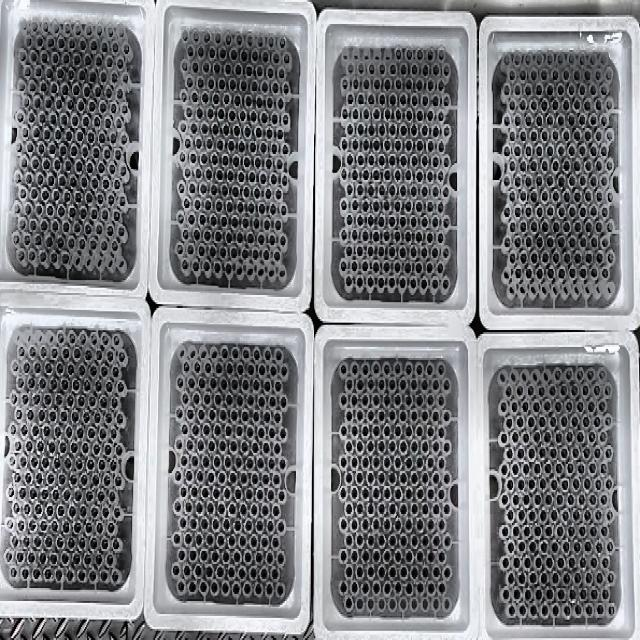vial: (432, 154, 440, 168), (19, 18, 27, 31), (117, 25, 125, 38), (191, 92, 199, 105), (108, 490, 116, 503), (107, 24, 114, 38), (123, 42, 130, 56), (438, 140, 445, 154), (36, 173, 44, 185), (67, 238, 75, 250), (13, 202, 21, 214), (260, 113, 268, 125), (272, 52, 280, 64), (256, 66, 264, 78), (278, 67, 286, 79), (184, 138, 192, 150), (200, 152, 208, 164), (183, 166, 191, 178), (194, 167, 202, 179), (238, 171, 246, 183), (210, 184, 218, 196), (253, 187, 261, 199), (176, 212, 184, 224), (258, 234, 266, 246), (279, 235, 287, 247), (192, 260, 200, 272), (246, 264, 254, 276), (268, 266, 276, 278), (346, 123, 354, 135), (383, 200, 391, 212), (420, 278, 428, 290), (410, 246, 418, 258), (340, 199, 348, 211), (579, 53, 587, 65), (503, 115, 511, 127), (536, 206, 544, 218), (24, 331, 32, 343), (62, 347, 70, 359), (280, 397, 288, 409), (272, 506, 280, 518), (206, 534, 214, 546), (272, 537, 280, 549), (378, 472, 386, 484), (400, 411, 408, 423), (599, 369, 607, 381), (572, 510, 580, 522), (574, 604, 582, 616), (39, 111, 46, 124), (63, 53, 70, 66), (27, 141, 34, 154), (427, 48, 434, 61), (443, 155, 450, 168), (362, 199, 369, 212), (112, 570, 119, 583), (276, 349, 283, 362), (280, 428, 287, 441), (186, 439, 193, 452), (587, 369, 594, 382), (66, 99, 74, 110), (16, 112, 24, 123), (218, 78, 226, 89), (244, 127, 252, 138), (272, 83, 280, 94), (282, 114, 290, 125), (190, 123, 198, 134), (232, 156, 240, 167), (270, 173, 278, 184), (280, 205, 288, 216), (416, 49, 424, 60), (438, 49, 446, 60), (432, 126, 440, 137), (421, 95, 429, 106), (362, 139, 370, 150), (442, 279, 450, 290), (394, 169, 402, 180), (346, 214, 354, 225), (345, 245, 353, 256), (366, 277, 374, 288), (372, 262, 380, 273), (356, 245, 364, 256), (502, 54, 510, 65), (556, 54, 564, 65), (562, 284, 570, 295), (28, 377, 36, 388), (16, 378, 24, 389), (26, 409, 34, 420), (76, 458, 84, 469), (28, 520, 36, 531), (68, 506, 76, 517), (102, 507, 110, 518), (264, 349, 272, 360), (280, 366, 288, 377), (218, 473, 226, 484), (188, 581, 196, 592), (212, 519, 220, 530), (250, 537, 258, 548), (528, 448, 536, 459), (572, 447, 580, 458), (594, 448, 602, 459), (556, 525, 564, 536), (502, 557, 510, 568), (508, 606, 516, 617), (43, 20, 50, 32), (52, 20, 59, 32), (64, 20, 71, 32), (96, 24, 103, 36), (101, 42, 108, 54), (51, 82, 58, 94), (57, 68, 64, 80), (15, 142, 22, 154), (15, 172, 22, 184), (73, 254, 80, 266), (80, 208, 87, 220), (86, 191, 93, 203), (119, 196, 126, 208), (182, 27, 189, 39), (203, 62, 210, 74), (209, 47, 216, 59), (213, 63, 220, 75), (234, 125, 241, 137), (225, 64, 232, 76), (230, 48, 237, 60), (235, 63, 242, 75), (256, 96, 263, 108), (251, 50, 258, 62), (283, 82, 290, 94), (181, 61, 188, 73), (196, 107, 203, 119), (180, 91, 187, 103), (185, 106, 192, 118), (179, 121, 186, 133), (254, 156, 261, 168), (178, 182, 185, 194), (200, 183, 207, 195), (232, 186, 239, 198), (194, 198, 201, 210), (237, 202, 244, 214), (182, 228, 189, 240), (263, 248, 270, 260), (214, 262, 221, 274), (225, 263, 232, 275), (395, 49, 402, 61), (384, 139, 391, 151), (379, 93, 386, 105), (379, 63, 386, 75), (406, 109, 413, 121), (395, 78, 402, 90), (444, 125, 451, 137), (422, 64, 429, 76), (443, 64, 450, 76), (368, 154, 375, 166), (342, 108, 349, 120), (340, 168, 347, 180), (352, 169, 359, 181), (378, 215, 385, 227), (373, 201, 380, 213), (368, 185, 375, 197), (443, 246, 450, 258), (432, 216, 439, 228), (416, 202, 423, 214), (340, 260, 347, 272), (350, 260, 357, 272), (352, 199, 359, 211), (574, 68, 581, 80), (504, 84, 511, 96), (530, 130, 537, 142), (541, 130, 548, 142), (590, 84, 597, 96), (595, 99, 602, 111), (606, 98, 613, 110), (605, 68, 612, 80), (509, 160, 516, 172), (525, 206, 532, 218), (585, 160, 592, 172), (602, 268, 609, 280), (14, 331, 21, 343), (47, 331, 54, 343), (33, 394, 40, 406), (36, 441, 43, 453), (42, 458, 49, 470), (105, 412, 112, 424), (19, 487, 26, 499), (40, 520, 47, 532), (63, 522, 70, 534), (108, 523, 115, 535), (33, 568, 40, 580), (67, 570, 74, 582), (100, 570, 107, 582), (242, 347, 249, 359), (226, 394, 233, 406), (258, 427, 265, 439), (247, 395, 254, 407), (196, 502, 203, 514), (206, 502, 213, 514), (202, 456, 209, 468), (201, 518, 208, 530), (422, 474, 429, 486), (401, 566, 408, 578), (411, 567, 418, 579), (433, 567, 440, 579), (346, 598, 353, 610), (594, 386, 601, 398), (561, 479, 568, 491), (601, 494, 608, 506), (535, 557, 542, 569), (601, 526, 608, 538), (524, 588, 531, 600), (586, 605, 593, 617), (91, 209, 99, 219), (236, 232, 244, 242), (181, 260, 189, 270), (399, 155, 407, 165), (378, 184, 386, 194), (514, 54, 522, 64), (546, 54, 554, 64), (606, 131, 614, 141), (536, 176, 544, 186), (90, 334, 98, 344), (72, 381, 80, 391), (70, 442, 78, 452), (22, 538, 30, 548), (56, 537, 64, 547), (112, 540, 120, 550), (258, 365, 266, 375), (176, 378, 184, 388), (236, 396, 244, 406), (212, 488, 220, 498), (256, 521, 264, 531), (266, 553, 274, 563), (432, 504, 440, 514), (573, 479, 581, 489), (591, 590, 599, 600), (518, 574, 526, 584), (32, 18, 38, 31), (113, 41, 119, 54), (109, 163, 115, 176), (85, 223, 91, 236), (213, 93, 219, 106), (230, 78, 236, 91), (246, 95, 252, 108), (250, 110, 256, 123), (256, 127, 262, 140), (260, 171, 266, 184), (189, 182, 195, 195), (389, 245, 395, 258), (74, 22, 81, 33), (25, 36, 32, 47), (36, 37, 43, 48), (47, 38, 54, 49), (58, 38, 65, 49), (79, 39, 86, 50), (90, 40, 97, 51), (19, 50, 26, 61), (35, 67, 42, 78), (52, 52, 59, 63), (106, 57, 113, 68), (33, 127, 40, 138), (65, 131, 72, 142), (121, 134, 128, 145), (87, 162, 94, 173), (120, 165, 127, 176), (42, 190, 49, 201), (47, 205, 54, 216), (51, 220, 58, 231), (19, 220, 26, 231), (17, 251, 24, 262), (12, 235, 19, 246), (119, 258, 126, 269), (97, 194, 104, 205), (118, 226, 125, 237), (203, 31, 210, 42), (223, 93, 230, 104), (234, 95, 241, 106), (220, 48, 227, 59), (241, 50, 248, 61), (267, 67, 274, 78), (277, 129, 284, 140), (186, 77, 193, 88), (205, 138, 212, 149), (195, 138, 202, 149), (211, 154, 218, 165), (243, 156, 250, 167), (216, 169, 223, 180), (227, 170, 234, 181), (249, 172, 256, 183), (243, 186, 250, 197), (188, 214, 195, 225), (210, 215, 217, 226), (253, 218, 260, 229), (204, 231, 211, 242), (215, 231, 222, 242), (225, 232, 232, 243), (269, 235, 276, 246), (198, 245, 205, 256), (219, 246, 226, 257), (203, 260, 210, 271), (406, 48, 413, 59), (363, 79, 370, 90), (368, 94, 375, 105), (368, 63, 375, 74), (437, 81, 444, 92), (417, 80, 424, 91), (347, 94, 354, 105), (367, 215, 374, 226), (363, 169, 370, 180), (399, 246, 406, 257), (432, 278, 439, 289), (416, 263, 423, 274), (443, 217, 450, 228), (405, 170, 412, 181), (427, 171, 434, 182), (438, 171, 445, 182), (394, 201, 401, 212), (410, 186, 417, 197), (427, 202, 434, 213), (437, 201, 444, 212), (433, 186, 440, 197), (346, 184, 353, 195), (341, 229, 348, 240), (362, 230, 369, 241), (525, 53, 532, 64), (537, 115, 544, 126), (552, 130, 559, 141), (541, 101, 548, 112), (558, 85, 565, 96), (579, 85, 586, 96), (585, 69, 592, 80), (509, 131, 516, 142), (552, 161, 559, 172), (558, 269, 565, 280), (44, 394, 51, 405), (90, 366, 97, 377), (85, 350, 92, 361), (41, 346, 48, 357), (43, 427, 50, 438), (60, 411, 67, 422), (81, 474, 88, 485), (98, 459, 105, 470), (115, 474, 122, 485), (110, 460, 117, 471), (104, 445, 111, 456), (94, 412, 101, 423), (116, 445, 123, 456), (32, 457, 39, 468), (25, 473, 32, 484), (24, 504, 31, 515), (35, 504, 42, 515), (29, 489, 36, 500), (42, 488, 49, 499), (6, 519, 13, 530), (91, 507, 98, 518), (78, 570, 85, 581), (89, 571, 96, 582), (221, 347, 228, 358), (253, 348, 260, 359), (237, 364, 244, 375), (215, 363, 222, 374), (205, 362, 212, 373), (210, 378, 217, 389), (220, 379, 227, 390), (264, 381, 271, 392), (236, 426, 243, 437), (231, 411, 238, 422), (253, 411, 260, 422), (274, 413, 281, 424), (269, 397, 276, 408), (191, 456, 198, 467), (198, 440, 205, 451), (208, 472, 215, 483), (218, 503, 225, 514), (208, 440, 215, 451), (219, 441, 226, 452), (230, 441, 237, 452), (262, 505, 269, 516), (189, 550, 196, 561), (200, 582, 207, 593), (201, 550, 208, 561), (222, 583, 229, 594), (183, 565, 190, 576), (178, 581, 185, 592), (222, 552, 229, 563), (239, 568, 246, 579), (234, 520, 241, 531), (433, 380, 440, 391), (339, 394, 346, 405), (383, 458, 390, 469), (389, 410, 396, 421), (395, 425, 402, 436), (406, 458, 413, 469), (405, 395, 412, 406), (444, 411, 451, 422), (411, 441, 418, 452), (427, 489, 434, 500), (395, 490, 402, 501), (346, 473, 353, 484), (346, 441, 353, 452), (412, 504, 419, 515), (438, 551, 445, 562), (500, 432, 507, 443), (545, 494, 552, 505), (556, 462, 563, 473), (583, 479, 590, 490), (600, 463, 607, 474), (577, 431, 584, 442), (512, 526, 519, 537), (518, 541, 525, 552), (518, 510, 525, 521), (570, 589, 577, 600), (540, 510, 547, 521), (574, 573, 581, 584), (585, 573, 592, 584), (573, 542, 580, 553), (568, 527, 575, 538), (602, 558, 609, 569), (590, 526, 597, 537), (597, 604, 604, 615), (86, 23, 92, 35), (34, 96, 40, 108), (61, 113, 67, 125), (68, 69, 74, 81), (105, 118, 111, 130), (117, 58, 123, 70), (111, 102, 117, 114), (22, 126, 28, 138), (88, 132, 94, 144), (99, 132, 105, 144), (82, 146, 88, 158), (94, 147, 100, 159), (104, 148, 110, 160), (76, 160, 82, 172), (92, 178, 98, 190), (20, 188, 26, 200), (26, 203, 32, 215), (30, 220, 36, 232), (46, 236, 52, 248), (57, 237, 63, 249), (63, 222, 69, 234), (54, 189, 60, 201), (64, 190, 70, 202), (90, 238, 96, 250), (76, 192, 82, 204), (24, 234, 30, 246), (280, 37, 286, 49), (208, 108, 214, 120), (228, 140, 234, 152), (223, 124, 229, 136), (218, 108, 224, 120), (229, 110, 235, 122), (252, 80, 258, 92), (284, 52, 290, 64), (190, 152, 196, 164), (266, 157, 272, 169), (222, 184, 228, 196), (276, 188, 282, 200), (259, 202, 265, 214), (200, 214, 206, 226), (232, 216, 238, 228), (275, 218, 281, 230), (194, 229, 200, 241), (274, 249, 280, 261), (236, 264, 242, 276), (358, 94, 364, 106), (379, 154, 385, 166), (358, 62, 364, 74), (384, 78, 390, 90), (396, 108, 402, 120), (412, 154, 418, 166), (422, 154, 428, 166), (411, 124, 417, 136), (391, 64, 397, 76), (438, 110, 444, 122), (412, 64, 418, 76), (358, 184, 364, 196), (400, 278, 406, 290), (384, 230, 390, 242), (417, 170, 423, 182), (362, 260, 368, 272), (541, 69, 547, 81), (590, 114, 596, 126), (558, 177, 564, 189), (607, 190, 613, 202), (504, 206, 510, 218), (570, 268, 576, 280), (608, 222, 614, 234), (607, 284, 613, 296), (69, 332, 75, 344), (80, 332, 86, 344), (62, 379, 68, 391), (11, 394, 17, 406), (32, 424, 38, 436), (10, 424, 16, 436), (15, 441, 21, 453), (52, 520, 58, 532), (114, 507, 120, 519), (6, 551, 12, 563), (62, 552, 68, 564), (211, 347, 217, 359), (215, 425, 221, 437), (242, 442, 248, 454), (279, 491, 285, 503), (263, 474, 269, 486), (256, 552, 262, 564), (390, 442, 396, 454), (411, 474, 417, 486), (401, 504, 407, 516), (417, 520, 423, 532), (444, 504, 450, 516), (439, 582, 445, 594), (578, 369, 584, 381), (534, 494, 540, 506), (507, 509, 513, 521), (597, 573, 603, 585), (82, 116, 89, 126), (18, 80, 25, 90), (111, 73, 118, 83), (62, 254, 69, 264), (111, 241, 118, 251), (217, 140, 224, 150), (240, 80, 247, 90), (271, 144, 278, 154), (262, 52, 269, 62), (271, 114, 278, 124), (282, 144, 289, 154), (179, 152, 186, 162), (276, 158, 283, 168), (205, 200, 212, 210), (226, 202, 233, 212), (242, 218, 249, 228), (247, 233, 254, 243), (209, 246, 216, 256), (347, 63, 354, 73), (364, 110, 371, 120), (373, 140, 380, 150), (401, 64, 408, 74), (427, 110, 434, 120), (352, 109, 359, 119), (352, 139, 359, 149), (346, 154, 353, 164), (378, 246, 385, 256), (389, 216, 396, 226), (410, 278, 417, 288), (427, 233, 434, 243), (437, 233, 444, 243), (400, 185, 407, 195), (421, 186, 428, 196), (378, 278, 385, 288), (357, 215, 364, 225), (351, 230, 358, 240), (536, 54, 543, 64), (568, 54, 575, 64), (509, 70, 516, 80), (509, 100, 516, 110), (520, 100, 527, 110), (601, 54, 608, 64), (520, 191, 527, 201), (520, 162, 527, 172), (563, 160, 570, 170), (585, 190, 592, 200), (579, 146, 586, 156), (553, 222, 560, 232), (113, 335, 120, 345), (78, 396, 85, 406), (100, 397, 107, 407), (96, 350, 103, 360), (95, 381, 102, 391), (74, 349, 81, 359), (29, 346, 36, 356), (21, 394, 28, 404), (47, 474, 54, 484), (58, 475, 65, 485), (49, 443, 56, 453), (49, 412, 56, 422), (54, 427, 61, 437), (92, 474, 99, 484), (110, 430, 117, 440), (15, 409, 22, 419), (21, 425, 28, 435), (36, 474, 43, 484), (34, 536, 41, 546), (45, 537, 52, 547), (68, 538, 75, 548), (52, 490, 59, 500), (74, 492, 81, 502), (80, 507, 87, 517), (86, 492, 93, 502), (10, 568, 17, 578), (28, 552, 35, 562), (55, 570, 62, 580), (73, 554, 80, 564), (199, 348, 206, 358), (232, 348, 239, 358), (270, 366, 277, 376), (183, 362, 190, 372), (198, 378, 205, 388), (253, 382, 260, 392), (193, 394, 200, 404), (269, 428, 276, 438), (235, 488, 242, 498), (240, 504, 247, 514), (268, 459, 275, 469), (274, 443, 281, 453), (180, 488, 187, 498), (180, 518, 187, 528), (195, 566, 202, 576), (190, 519, 197, 529), (217, 568, 224, 578), (172, 566, 179, 576), (218, 536, 225, 546), (223, 520, 230, 530), (239, 536, 246, 546), (250, 568, 257, 578), (362, 364, 369, 374), (437, 365, 444, 375), (367, 380, 374, 390), (378, 380, 385, 390), (346, 411, 353, 421), (400, 474, 407, 484), (384, 426, 391, 436), (373, 396, 380, 406), (384, 396, 391, 406), (438, 396, 445, 406), (406, 427, 413, 437), (416, 426, 423, 436), (340, 426, 347, 436), (340, 488, 347, 498), (356, 536, 363, 546), (362, 552, 369, 562), (389, 567, 396, 577), (340, 583, 347, 593), (604, 385, 611, 395), (522, 402, 529, 412), (517, 417, 524, 427), (512, 464, 519, 474), (507, 480, 514, 490), (512, 495, 519, 505), (524, 557, 531, 567), (545, 526, 552, 536), (595, 511, 602, 521), (552, 606, 559, 616), (564, 606, 571, 616), (69, 38, 75, 49), (30, 81, 36, 92), (50, 114, 56, 125), (47, 68, 53, 79), (73, 84, 79, 95), (78, 100, 84, 111), (79, 70, 85, 81), (84, 86, 90, 97), (89, 101, 95, 112), (94, 116, 100, 127), (84, 54, 90, 65), (90, 71, 96, 82), (95, 86, 101, 97), (99, 102, 105, 113), (101, 72, 107, 83), (122, 74, 128, 85), (106, 88, 112, 99), (122, 103, 128, 114), (44, 128, 50, 139), (110, 133, 116, 144), (49, 143, 55, 154), (32, 158, 38, 169), (44, 159, 50, 170), (98, 163, 104, 174), (103, 179, 109, 190), (82, 177, 88, 188), (59, 175, 65, 186), (48, 176, 54, 187), (26, 173, 32, 184), (35, 235, 41, 246), (51, 252, 57, 263), (36, 204, 42, 215), (32, 189, 38, 200), (69, 207, 75, 218), (96, 223, 102, 234), (29, 251, 35, 262), (215, 32, 221, 43), (247, 35, 253, 46), (188, 45, 194, 56), (198, 78, 204, 89), (202, 93, 208, 104), (212, 124, 218, 135), (208, 78, 214, 89), (238, 141, 244, 152), (250, 142, 256, 153), (260, 143, 266, 154), (246, 65, 252, 76), (267, 98, 273, 109), (278, 98, 284, 109), (202, 123, 208, 134), (222, 154, 228, 165), (206, 168, 212, 179), (282, 174, 288, 185), (184, 197, 190, 208), (216, 201, 222, 212), (249, 202, 255, 213), (270, 204, 276, 215), (177, 243, 183, 254), (231, 247, 237, 258), (242, 248, 248, 259), (252, 248, 258, 259), (258, 266, 264, 277), (352, 78, 358, 89), (389, 154, 395, 165), (395, 140, 401, 151), (390, 94, 396, 105), (401, 125, 407, 136), (406, 140, 412, 151), (417, 140, 423, 151), (400, 93, 406, 104), (412, 95, 418, 106), (422, 125, 428, 136), (428, 81, 434, 92), (433, 64, 439, 75), (342, 78, 348, 89), (342, 138, 348, 149), (384, 261, 390, 272), (389, 277, 395, 288), (394, 262, 400, 273), (438, 263, 444, 274), (416, 231, 422, 242), (368, 245, 374, 256), (520, 131, 526, 142), (515, 84, 521, 95), (531, 100, 537, 111), (574, 131, 580, 142), (585, 130, 591, 141), (596, 130, 602, 141), (601, 115, 607, 126), (601, 84, 607, 95), (596, 70, 602, 81), (590, 54, 596, 65), (504, 146, 510, 157), (515, 176, 521, 187), (537, 146, 543, 157), (547, 176, 553, 187), (558, 206, 564, 217), (569, 207, 575, 218), (569, 175, 575, 186), (569, 145, 575, 156), (590, 206, 596, 217), (596, 191, 602, 202), (602, 207, 608, 218), (602, 175, 608, 186), (515, 207, 521, 218), (510, 222, 516, 233), (509, 253, 515, 264), (504, 270, 510, 281), (548, 269, 554, 280), (536, 237, 542, 248), (532, 221, 538, 232), (547, 236, 553, 247), (553, 252, 559, 263), (564, 253, 570, 264), (564, 221, 570, 232), (569, 237, 575, 248), (591, 268, 597, 279), (586, 253, 592, 264), (586, 221, 592, 232), (520, 284, 526, 295), (573, 285, 579, 296), (594, 284, 600, 295), (58, 331, 64, 342), (102, 334, 108, 345), (67, 395, 73, 406), (89, 395, 95, 406), (107, 351, 113, 362), (57, 363, 63, 374), (50, 378, 56, 389), (34, 363, 40, 374), (40, 378, 46, 389), (54, 459, 60, 470), (93, 443, 99, 454), (100, 428, 106, 439), (117, 413, 123, 424), (26, 441, 32, 452), (20, 455, 26, 466), (58, 506, 64, 517), (64, 489, 70, 500), (74, 522, 80, 533), (79, 538, 85, 549), (97, 523, 103, 534), (22, 569, 28, 580), (84, 554, 90, 565), (106, 555, 112, 566), (190, 347, 196, 358), (188, 377, 194, 388), (204, 425, 210, 436), (210, 409, 216, 420), (220, 410, 226, 421), (259, 397, 265, 408), (182, 393, 188, 404), (188, 409, 194, 420), (192, 424, 198, 435), (177, 408, 183, 419), (182, 424, 188, 435), (181, 456, 187, 467), (186, 470, 192, 481), (202, 487, 208, 498), (224, 489, 230, 500), (214, 456, 220, 467), (230, 472, 236, 483), (251, 504, 257, 515), (246, 488, 252, 499), (257, 489, 263, 500), (268, 490, 274, 501), (263, 442, 269, 453), (253, 443, 259, 454), (186, 533, 192, 544), (212, 583, 218, 594), (196, 535, 202, 546), (233, 583, 239, 594), (245, 552, 251, 563), (262, 537, 268, 548), (279, 521, 285, 532), (272, 568, 278, 579), (278, 584, 284, 595), (400, 379, 406, 390), (411, 379, 417, 390), (352, 425, 358, 436), (362, 427, 368, 438), (357, 411, 363, 422), (390, 473, 396, 484), (395, 458, 401, 469), (433, 411, 439, 422), (433, 474, 439, 485), (444, 473, 450, 484), (352, 488, 358, 499), (379, 536, 385, 547), (390, 504, 396, 515), (400, 535, 406, 546), (340, 551, 346, 562), (422, 567, 428, 578), (428, 583, 434, 594), (396, 582, 402, 593), (555, 369, 561, 380), (567, 370, 573, 381), (518, 385, 524, 396), (506, 418, 512, 429), (518, 478, 524, 489), (524, 465, 530, 476), (518, 448, 524, 459), (578, 496, 584, 507), (568, 463, 574, 474), (567, 431, 573, 442), (606, 478, 612, 489), (589, 463, 595, 474), (584, 447, 590, 458), (589, 431, 595, 442), (600, 432, 606, 443), (530, 572, 536, 583), (529, 510, 535, 521), (552, 541, 558, 552), (608, 572, 614, 583), (542, 606, 548, 617), (608, 605, 614, 616), (115, 148, 120, 161), (79, 237, 84, 250), (368, 126, 375, 135), (389, 124, 396, 133), (504, 177, 511, 186), (35, 332, 42, 341), (46, 506, 53, 515), (85, 523, 92, 532), (444, 381, 451, 390), (422, 412, 429, 421), (411, 412, 418, 421), (367, 567, 374, 576), (505, 387, 512, 396), (545, 465, 552, 474), (501, 495, 508, 504), (25, 66, 31, 76), (31, 51, 37, 61), (40, 82, 46, 92), (45, 98, 51, 108), (55, 130, 61, 140), (42, 52, 48, 62), (62, 84, 68, 94), (74, 55, 80, 65), (24, 96, 29, 108), (28, 113, 34, 123), (116, 118, 122, 128), (60, 146, 66, 156), (71, 146, 77, 156), (54, 160, 60, 170), (65, 160, 71, 170), (70, 176, 76, 186), (40, 252, 46, 262), (42, 220, 47, 232), (59, 205, 64, 217), (74, 223, 80, 233), (97, 258, 103, 268), (101, 241, 107, 251), (107, 225, 113, 235), (102, 208, 107, 220), (107, 259, 113, 269), (108, 195, 114, 205), (113, 210, 119, 220), (193, 32, 199, 42), (236, 35, 242, 45), (258, 36, 264, 46), (268, 36, 274, 46), (192, 62, 198, 72), (198, 47, 204, 57), (266, 129, 272, 139), (262, 82, 268, 92), (265, 190, 271, 200), (221, 216, 227, 226), (264, 220, 270, 230), (188, 244, 194, 254), (280, 266, 286, 276), (380, 125, 386, 135), (385, 110, 391, 120), (374, 80, 380, 90), (406, 80, 412, 90), (417, 110, 423, 120), (432, 96, 438, 106), (358, 124, 364, 134), (358, 155, 364, 165), (373, 231, 379, 241), (373, 169, 379, 179), (394, 230, 400, 240), (422, 247, 428, 257), (406, 231, 412, 241), (422, 216, 428, 226), (400, 216, 406, 226), (384, 170, 390, 180), (389, 186, 395, 196), (406, 201, 412, 211), (346, 277, 352, 287), (563, 70, 569, 80), (520, 70, 526, 80), (531, 71, 537, 81), (516, 116, 522, 126), (526, 84, 532, 94), (536, 85, 542, 95), (548, 84, 554, 94), (553, 100, 559, 110), (558, 115, 564, 125), (564, 131, 570, 141), (564, 100, 570, 110), (574, 100, 580, 110), (580, 115, 586, 125), (584, 100, 590, 110), (530, 190, 536, 200), (526, 176, 532, 186), (542, 192, 548, 202), (548, 206, 554, 216), (542, 161, 548, 171), (553, 191, 559, 201), (564, 193, 570, 203), (548, 146, 554, 156), (558, 146, 564, 156), (574, 192, 580, 202), (574, 161, 580, 171), (580, 175, 586, 185), (590, 146, 596, 156), (602, 146, 608, 156), (607, 162, 613, 172), (515, 238, 521, 248), (504, 237, 510, 247), (516, 269, 522, 279), (520, 222, 526, 232), (531, 253, 537, 263), (536, 270, 542, 280), (542, 253, 548, 263), (542, 222, 548, 232), (558, 238, 564, 248), (575, 253, 581, 263), (580, 268, 586, 278), (580, 238, 586, 248), (576, 222, 582, 232), (592, 236, 597, 248), (597, 253, 603, 263), (602, 237, 608, 247), (596, 222, 602, 232), (508, 285, 514, 295), (552, 284, 558, 294), (584, 285, 590, 295), (18, 347, 24, 357), (56, 394, 62, 404), (112, 398, 118, 408), (118, 382, 123, 394), (119, 352, 125, 362), (101, 366, 107, 376), (106, 382, 112, 392), (79, 365, 85, 375), (84, 381, 90, 391), (68, 365, 74, 375), (52, 348, 58, 358), (46, 364, 52, 374), (12, 362, 18, 372), (39, 411, 45, 421), (60, 443, 66, 453), (65, 458, 71, 468), (88, 460, 94, 470), (82, 444, 88, 454), (72, 410, 78, 420), (77, 427, 83, 437), (83, 412, 89, 422), (88, 428, 94, 438), (104, 474, 110, 484), (9, 456, 15, 466), (14, 472, 20, 482), (8, 488, 14, 498), (13, 503, 19, 513), (18, 520, 24, 530), (12, 536, 18, 546), (90, 539, 96, 549), (102, 538, 108, 548), (98, 492, 104, 502), (17, 552, 23, 562), (45, 570, 51, 580), (40, 554, 46, 564), (50, 554, 56, 564), (96, 555, 102, 565), (178, 348, 184, 358), (248, 364, 254, 374), (227, 364, 233, 374), (195, 362, 201, 372), (232, 380, 238, 390), (242, 380, 248, 390), (276, 382, 282, 392), (198, 410, 204, 420), (204, 394, 210, 404), (215, 395, 221, 405), (226, 426, 232, 436), (242, 411, 248, 421), (247, 427, 253, 437), (264, 412, 270, 422), (176, 440, 182, 450), (191, 486, 197, 496), (197, 472, 203, 482), (229, 505, 235, 515), (225, 458, 231, 468), (236, 458, 242, 468), (247, 457, 253, 467), (252, 474, 258, 484), (274, 475, 280, 485), (280, 459, 286, 469), (258, 458, 264, 468), (186, 503, 192, 513), (207, 567, 213, 577), (213, 552, 219, 562), (174, 534, 180, 544), (178, 550, 184, 560), (228, 567, 234, 577), (245, 584, 251, 594), (234, 552, 240, 562), (229, 536, 235, 546), (255, 584, 261, 594), (266, 584, 272, 594), (261, 569, 267, 579), (246, 520, 252, 530), (268, 521, 274, 531), (278, 554, 284, 564), (341, 364, 347, 374), (352, 364, 358, 374), (373, 363, 379, 373), (384, 364, 390, 374), (395, 364, 401, 374), (406, 364, 412, 374), (416, 365, 422, 375), (427, 364, 433, 374), (357, 380, 363, 390), (390, 379, 396, 389), (422, 380, 428, 390), (362, 458, 368, 468), (362, 396, 368, 406), (400, 441, 406, 451), (395, 395, 401, 405), (417, 395, 423, 405), (428, 396, 434, 406), (438, 427, 444, 437), (433, 442, 439, 452), (444, 442, 450, 452), (438, 458, 444, 468), (428, 458, 434, 468), (439, 489, 445, 499), (352, 458, 358, 468), (341, 458, 347, 468), (346, 504, 352, 514), (352, 519, 358, 529), (357, 503, 363, 513), (368, 536, 374, 546), (346, 535, 352, 545), (406, 520, 412, 530), (412, 536, 418, 546), (422, 504, 428, 514), (444, 536, 450, 546), (352, 551, 358, 561), (384, 552, 390, 562), (346, 567, 352, 577), (357, 567, 363, 577), (378, 566, 384, 576), (444, 568, 450, 578), (417, 583, 423, 593), (374, 583, 380, 593), (363, 584, 369, 594), (352, 583, 358, 593), (550, 386, 556, 396), (538, 386, 544, 396), (501, 402, 507, 412), (512, 403, 518, 413), (588, 402, 594, 412), (600, 402, 606, 412), (594, 417, 600, 427), (572, 416, 578, 426), (506, 448, 512, 458), (524, 494, 530, 504), (529, 480, 535, 490), (524, 432, 530, 442), (534, 463, 540, 473), (552, 480, 558, 490), (540, 448, 546, 458), (535, 432, 541, 442), (545, 432, 551, 442), (550, 448, 556, 458), (562, 448, 568, 458), (556, 433, 562, 443), (595, 480, 601, 490), (606, 448, 612, 458), (536, 590, 542, 600), (547, 589, 553, 599), (542, 574, 548, 584), (524, 526, 530, 536), (535, 526, 541, 536), (541, 542, 547, 552), (547, 558, 553, 568), (553, 574, 559, 584), (558, 589, 564, 599), (564, 574, 570, 584), (551, 510, 557, 520), (563, 542, 569, 552), (569, 557, 575, 567), (580, 559, 586, 569), (562, 512, 568, 522), (591, 558, 597, 568), (602, 590, 608, 600), (607, 542, 613, 552), (596, 542, 602, 552), (585, 511, 591, 521), (607, 511, 613, 521), (508, 542, 514, 552), (513, 558, 519, 568), (508, 574, 514, 584), (503, 590, 509, 600), (520, 606, 526, 616), (530, 606, 536, 616), (501, 466, 508, 474), (22, 157, 27, 168), (226, 34, 231, 45), (240, 110, 245, 121), (444, 95, 449, 106), (444, 186, 449, 197), (24, 362, 29, 373), (241, 473, 246, 484), (357, 441, 362, 452), (368, 473, 373, 484), (374, 458, 379, 469), (374, 426, 379, 437), (373, 489, 378, 500), (368, 504, 373, 515), (379, 503, 384, 514), (385, 583, 390, 594), (585, 541, 590, 552), (77, 132, 83, 141), (117, 90, 123, 99), (405, 264, 411, 273), (432, 248, 438, 257), (411, 217, 417, 226), (514, 146, 520, 155), (526, 146, 532, 155), (580, 208, 586, 217), (590, 177, 596, 186), (530, 284, 536, 293), (66, 427, 72, 436), (70, 475, 76, 484), (174, 503, 180, 512), (346, 380, 352, 389), (378, 412, 384, 421), (422, 442, 428, 451), (439, 521, 445, 530), (561, 385, 567, 394), (528, 386, 534, 395), (544, 402, 550, 411), (556, 402, 562, 411), (605, 417, 611, 426), (584, 418, 590, 427), (530, 418, 536, 427), (540, 479, 546, 488), (556, 496, 562, 505), (590, 495, 596, 504), (558, 558, 564, 567), (580, 589, 586, 598), (502, 527, 508, 536), (56, 100, 61, 110), (72, 114, 77, 124), (96, 55, 101, 65), (85, 256, 90, 266), (374, 109, 379, 119), (428, 140, 433, 150), (358, 277, 363, 287), (553, 71, 558, 81), (526, 116, 531, 126), (569, 86, 574, 96), (597, 160, 602, 170), (510, 191, 515, 201), (521, 253, 526, 263), (526, 269, 531, 279), (526, 237, 531, 247), (608, 253, 613, 263), (542, 284, 547, 294), (113, 366, 118, 376), (368, 442, 373, 452), (368, 411, 373, 421), (379, 442, 384, 452), (417, 458, 422, 468), (418, 490, 423, 500), (407, 490, 412, 500), (363, 488, 368, 498), (363, 520, 368, 530), (374, 520, 379, 530), (395, 521, 400, 531), (390, 536, 395, 546), (423, 535, 428, 545), (434, 536, 439, 546), (374, 551, 379, 561), (407, 552, 412, 562), (417, 552, 422, 562), (428, 552, 433, 562), (407, 584, 412, 594), (534, 402, 539, 412), (540, 417, 545, 427), (579, 464, 584, 474), (580, 526, 585, 536), (569, 117, 575, 125), (175, 472, 181, 480), (572, 387, 578, 395), (562, 417, 568, 425), (551, 418, 557, 426), (530, 542, 536, 550), (39, 144, 44, 153), (114, 180, 119, 189), (427, 264, 432, 273), (531, 161, 536, 170), (352, 396, 357, 405), (428, 427, 433, 436), (357, 474, 362, 483), (385, 520, 390, 529), (341, 520, 346, 529), (428, 520, 433, 529), (395, 552, 400, 561), (583, 386, 588, 395), (567, 402, 572, 411), (578, 402, 583, 411), (513, 433, 518, 442), (548, 116, 552, 126), (568, 494, 572, 504), (514, 590, 519, 598), (386, 490, 390, 499)
